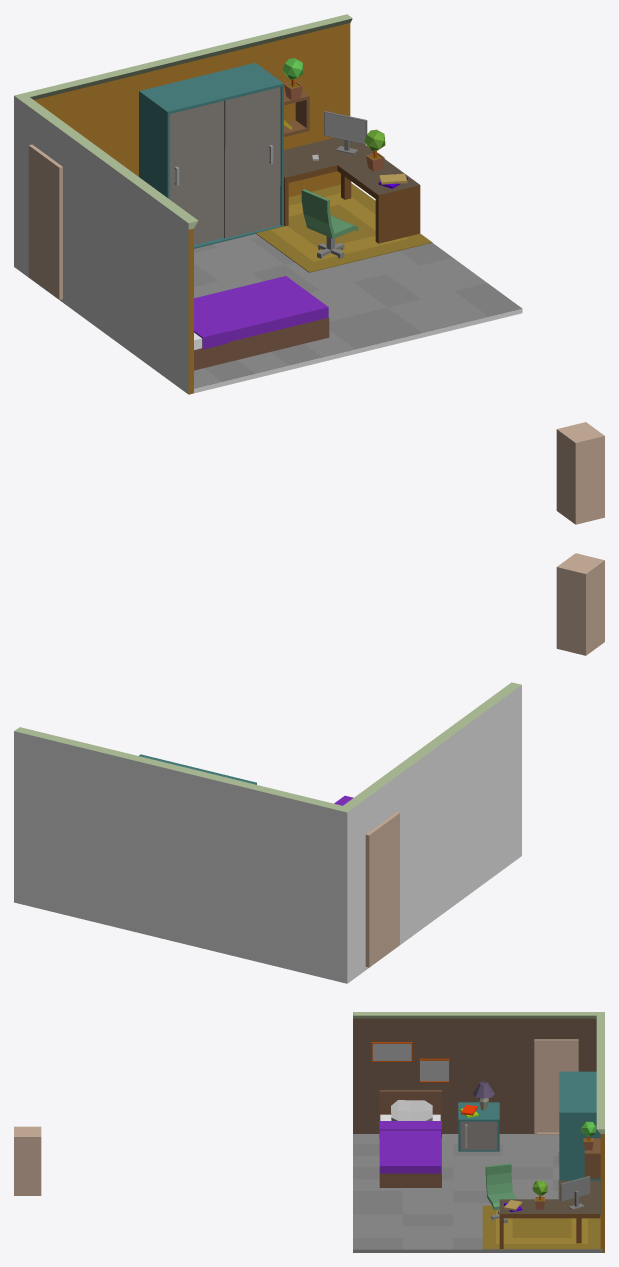
File: Komnata_Glavnogo_geroya.fbx
3 renders of one model, top to bottom at view 1: azimuth 30°, elevation 25°; view 2: azimuth 150°, elevation 25°; view 3: azimuth 270°, elevation 25°, orthographic. The views are drawn at different scales.
Parts seen in each view (by area): view 1: Куб, Куб.013, Куб.039, Куб.016, Куб.004, Куб.038, Cube.001, Cube, Куб.002, Куб.017, Куб.022; view 2: Куб, Cube.001, Cube; view 3: Куб, Куб.039, Куб.038, Куб.013, Куб.004, Cube.001, Куб.016, Куб.002, Cube, Куб.006, Куб.017, Куб.005 (+4 smaller).
Boxes of the visible parts, bbox=[...] form: Куб: bbox=[14, 14, 521, 394]; Куб.013: bbox=[139, 62, 283, 248]; Куб.039: bbox=[194, 234, 522, 388]; Куб.016: bbox=[284, 138, 420, 243]; Куб.004: bbox=[194, 276, 328, 349]; Куб.038: bbox=[256, 183, 432, 272]; Cube.001: bbox=[28, 144, 62, 299]; Cube: bbox=[556, 422, 604, 524]; Куб.002: bbox=[194, 317, 329, 370]; Куб.017: bbox=[301, 189, 358, 238]; Куб.022: bbox=[324, 111, 367, 144]; Куб: bbox=[14, 682, 521, 983]; Cube.001: bbox=[365, 812, 399, 967]; Cube: bbox=[556, 553, 604, 655]; Куб: bbox=[353, 1012, 604, 1252]; Куб.039: bbox=[353, 1134, 602, 1252]; Куб.038: bbox=[482, 1205, 600, 1249]; Куб.013: bbox=[559, 1071, 600, 1215]; Куб.004: bbox=[379, 1121, 441, 1173]; Cube.001: bbox=[534, 1039, 578, 1134]; Куб.016: bbox=[499, 1180, 600, 1248]; Куб.002: bbox=[379, 1090, 441, 1187]; Cube: bbox=[14, 1126, 41, 1195]; Куб.006: bbox=[458, 1102, 499, 1151]; Куб.017: bbox=[485, 1163, 516, 1210]; Куб.005: bbox=[391, 1100, 432, 1120].
Size of the model in its own units: 1356 by 658 by 2852.
